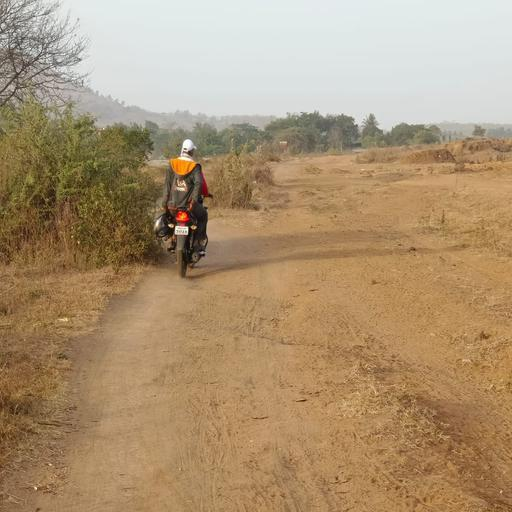vehicle_track: (36, 221, 330, 512)
